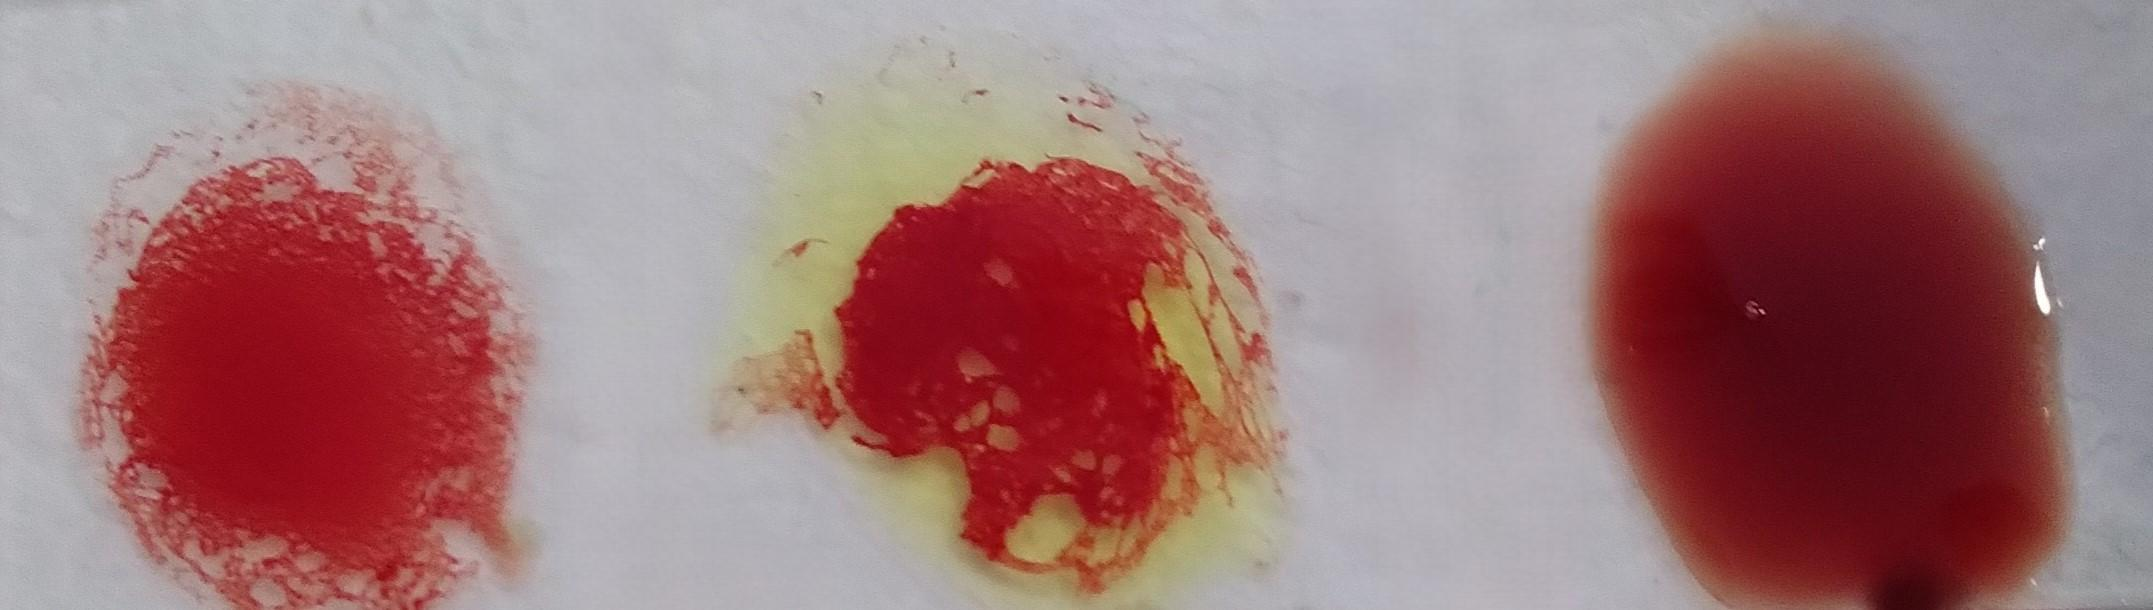B: (780, 59, 1284, 610)
D: (95, 121, 498, 610)
